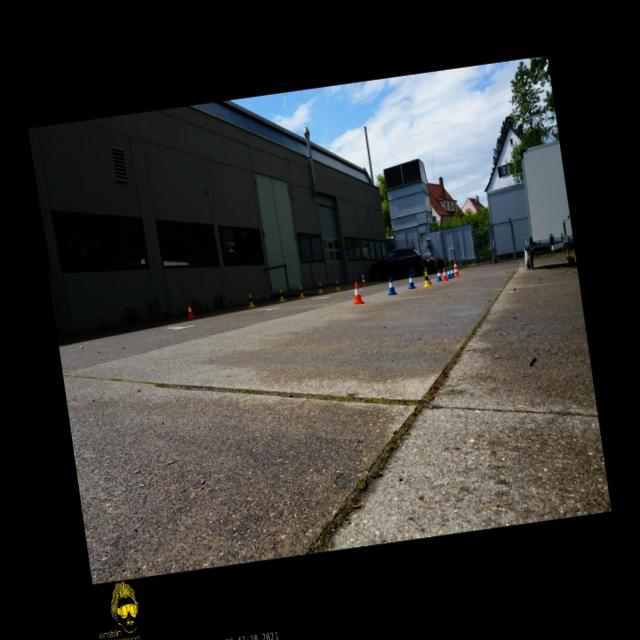blue_cone: (386, 276, 398, 296), (406, 272, 416, 290), (435, 268, 443, 282), (449, 266, 456, 278), (446, 266, 452, 278)
large_orange_cone: (358, 272, 366, 286), (452, 260, 459, 276)
orange_cone: (350, 280, 364, 304), (184, 302, 196, 320), (441, 267, 448, 281)
yellow_cone: (422, 270, 432, 287), (246, 294, 256, 308), (278, 288, 286, 302), (298, 286, 306, 298), (316, 282, 324, 294), (334, 280, 342, 292)
